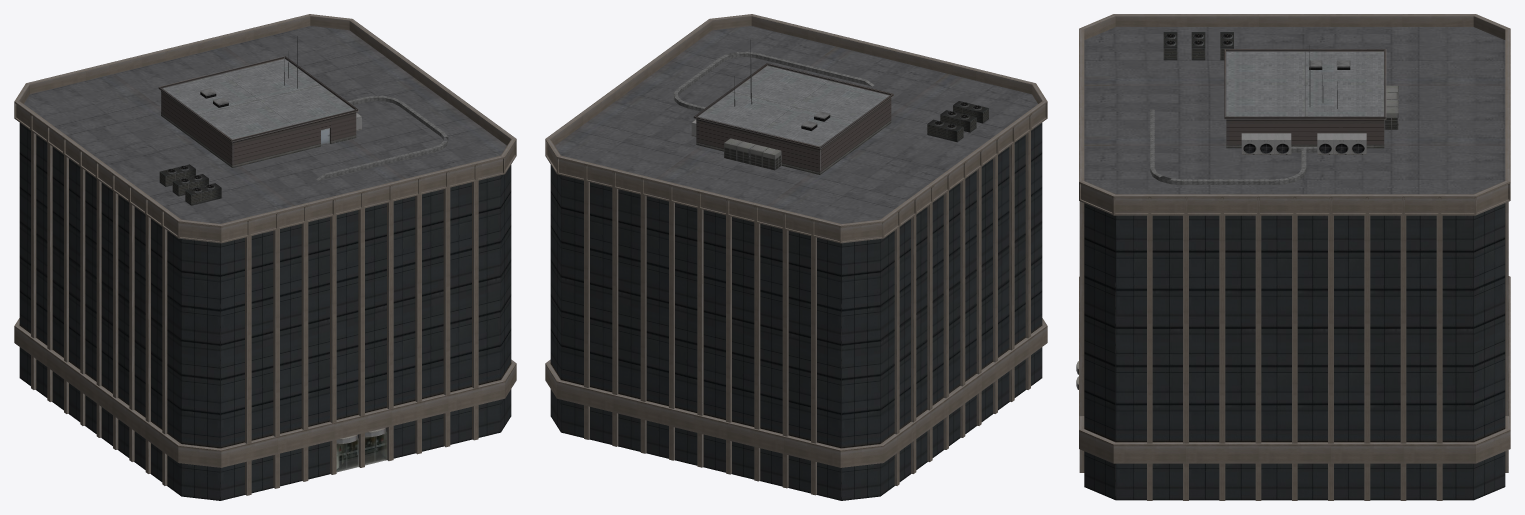
The model's file is building-c.glb.
The picture shows the model from 3 angles, left to right: view 1: azimuth 30°, elevation 25°; view 2: azimuth 150°, elevation 25°; view 3: azimuth 270°, elevation 25°; orthographic projection. The views are drawn at different scales.
Visible parts, largest first — view 1: AIT01W2W8; view 2: AIT01W2W8; view 3: AIT01W2W8.
Part boxes in pixels (box(x1,y1,x2,y2)): AIT01W2W8: box(14, 14, 516, 500); AIT01W2W8: box(545, 14, 1047, 500); AIT01W2W8: box(1076, 14, 1510, 500).
Size of the model in its own units: 1.99 by 1.98 by 2.
1 material, 1 textured.
